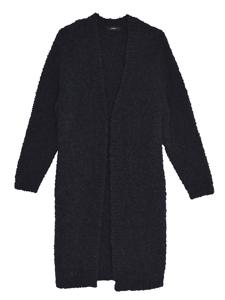S_cardigan sweater: (23, 25, 218, 254)
